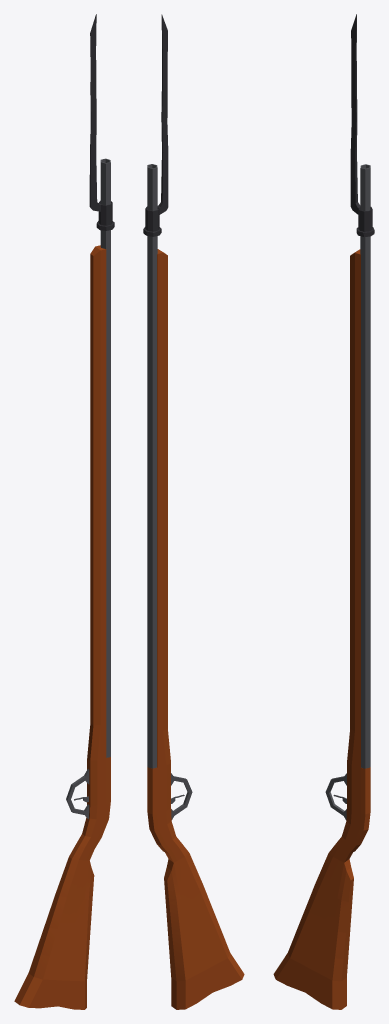
Rendered from Fusil_Baionnette.FBX.
The picture shows the model from 3 angles, left to right: view 1: azimuth 30°, elevation 25°; view 2: azimuth 210°, elevation 25°; view 3: azimuth 330°, elevation 25°; orthographic projection.
Visible parts, largest first — view 1: Fusil_Baionnette; view 2: Fusil_Baionnette; view 3: Fusil_Baionnette.
Part boxes in pixels (box(x1,y1,x2,y2)): Fusil_Baionnette: box(14, 14, 114, 1009); Fusil_Baionnette: box(143, 14, 244, 1009); Fusil_Baionnette: box(273, 14, 374, 1009).
Size of the model in its own units: 12.74 by 125 by 2.77.
1 material, 1 textured.
